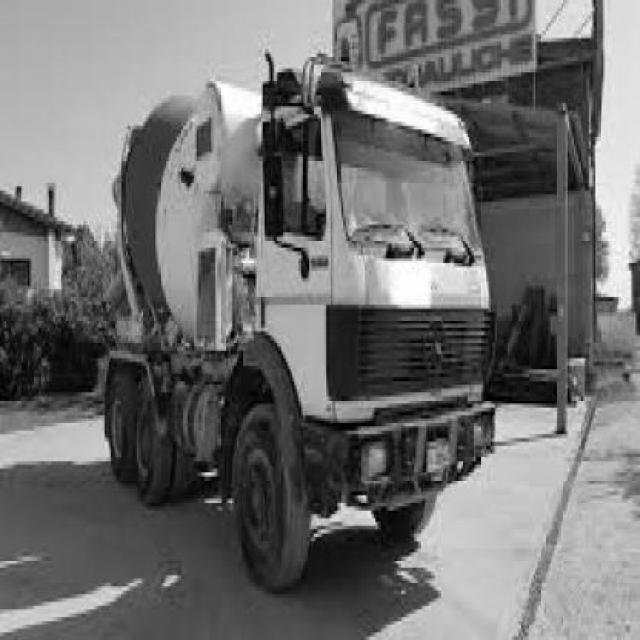Concrete Mixer: (102, 56, 497, 592)
